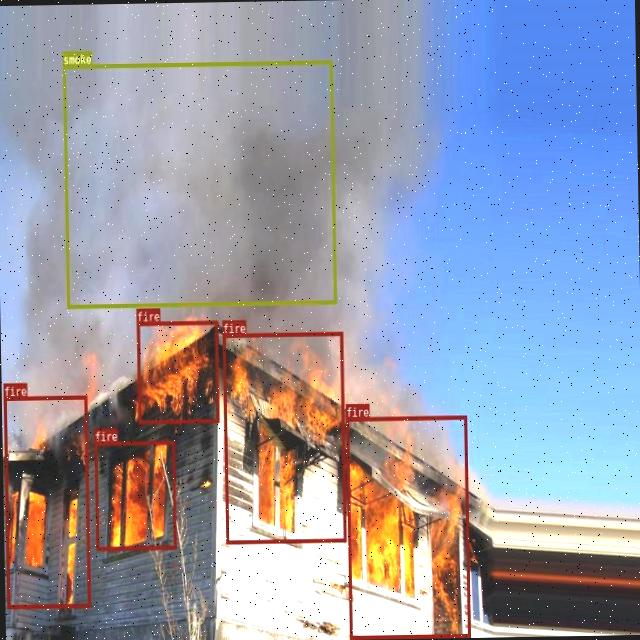fire: (344, 414, 470, 638), (222, 331, 346, 543), (3, 395, 90, 608), (94, 440, 175, 550), (136, 320, 218, 423)
smoke: (62, 60, 336, 308)
